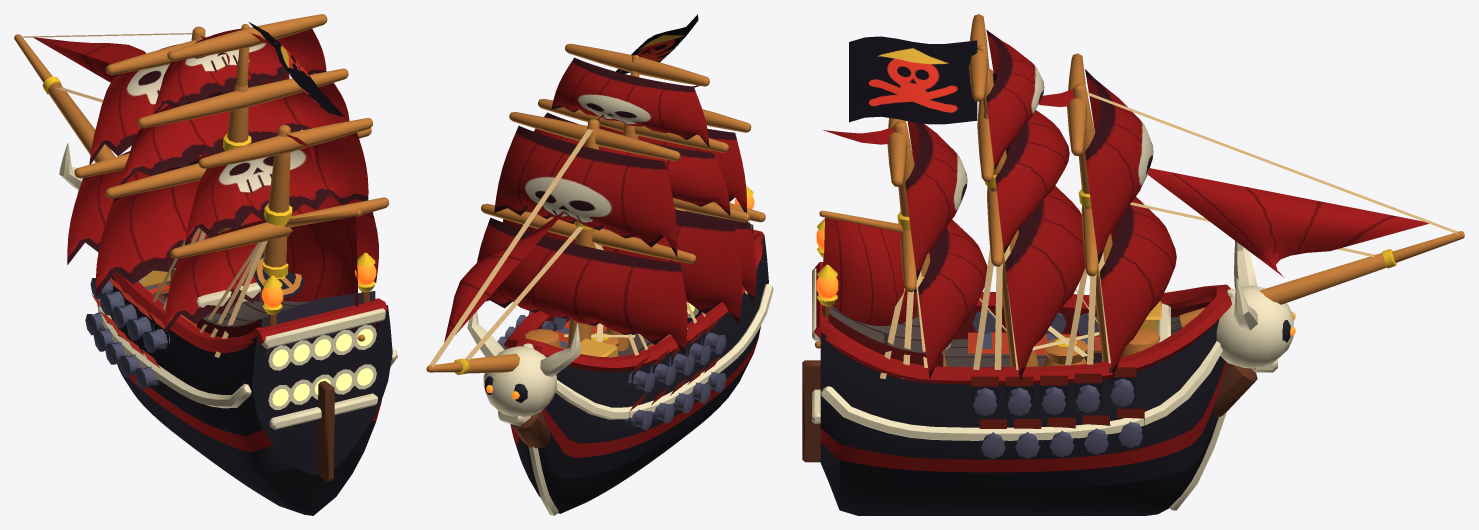
File: dread_galleon.glb
3 views of the same model, side by side, from view 1: azimuth 30°, elevation 25°; view 2: azimuth 150°, elevation 25°; view 3: azimuth 270°, elevation 25° (orthographic). The views are drawn at different scales.
Parts seen in each view (by area): view 1: Hull, Rigging, Sail2_1, Sail1_0, Sail1_1, Sail1_2, Sail2_0, Spanker, Sail0_1, Guns0, Sail0_0, Jib (+1 smaller); view 2: Hull, Rigging, Sail0_0, Sail0_1, Sail1_2, Sail1_0, Guns0, Sail1_1, Jib, Sail2_1, Sail2_0, Flag; view 3: Hull, Rigging, Jib, Flag, Sail1_0, Sail0_0, Sail0_1, Spanker, Guns0, Sail2_0, Sail2_1, Sail1_1 (+1 smaller).
Part boxes in pixels (x1,y1,x2,y2): Hull: (59, 143, 397, 515); Rigging: (14, 14, 389, 357); Sail2_1: (185, 132, 368, 245); Sail1_0: (95, 154, 362, 297); Sail1_1: (120, 81, 349, 184); Sail1_2: (153, 28, 326, 113); Sail2_0: (165, 212, 378, 333); Spanker: (283, 216, 358, 330); Sail0_1: (89, 44, 289, 164); Guns0: (85, 277, 196, 389); Sail0_0: (67, 151, 207, 264); Jib: (33, 37, 146, 82); Hull: (467, 185, 773, 515); Rigging: (426, 42, 765, 374); Sail0_0: (477, 217, 687, 355); Sail0_1: (494, 126, 677, 257); Sail1_2: (551, 57, 709, 147); Sail1_0: (503, 207, 742, 325); Guns0: (497, 311, 726, 429); Sail1_1: (534, 112, 730, 215); Jib: (444, 212, 564, 342); Sail2_1: (599, 125, 746, 212); Sail2_0: (675, 209, 756, 302); Flag: (616, 14, 698, 73); Hull: (802, 218, 1295, 515); Rigging: (815, 14, 1464, 378); Jib: (1148, 168, 1428, 277); Flag: (849, 36, 977, 124); Sail1_0: (1005, 185, 1085, 380); Sail0_0: (1099, 197, 1176, 376); Sail0_1: (1085, 69, 1153, 263); Spanker: (822, 217, 916, 325); Guns0: (968, 311, 1142, 458); Sail2_0: (918, 219, 987, 378); Sail2_1: (905, 121, 967, 279); Sail1_1: (995, 110, 1069, 253).
Size of the model in its own units: 2 by 3.25 by 4.1.
9 materials, 4 textured.
